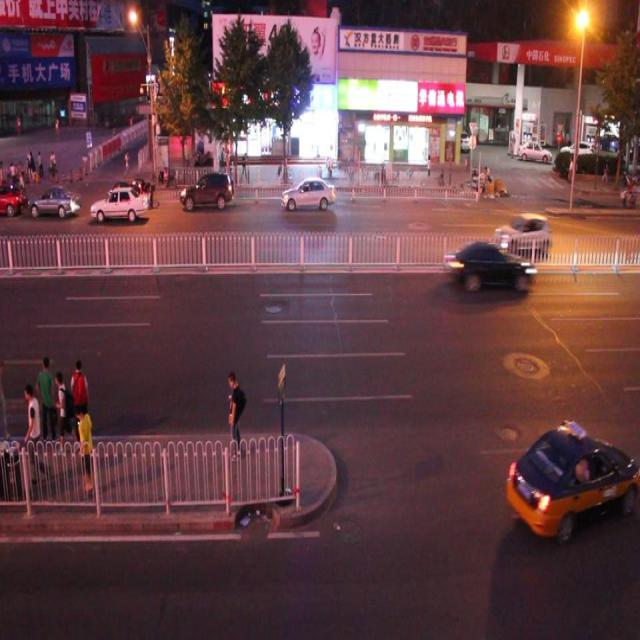car: (503, 422, 640, 546), (442, 238, 536, 296), (492, 212, 550, 253), (179, 170, 235, 210), (28, 181, 82, 221), (282, 174, 336, 212), (91, 187, 148, 221), (101, 180, 145, 223)
